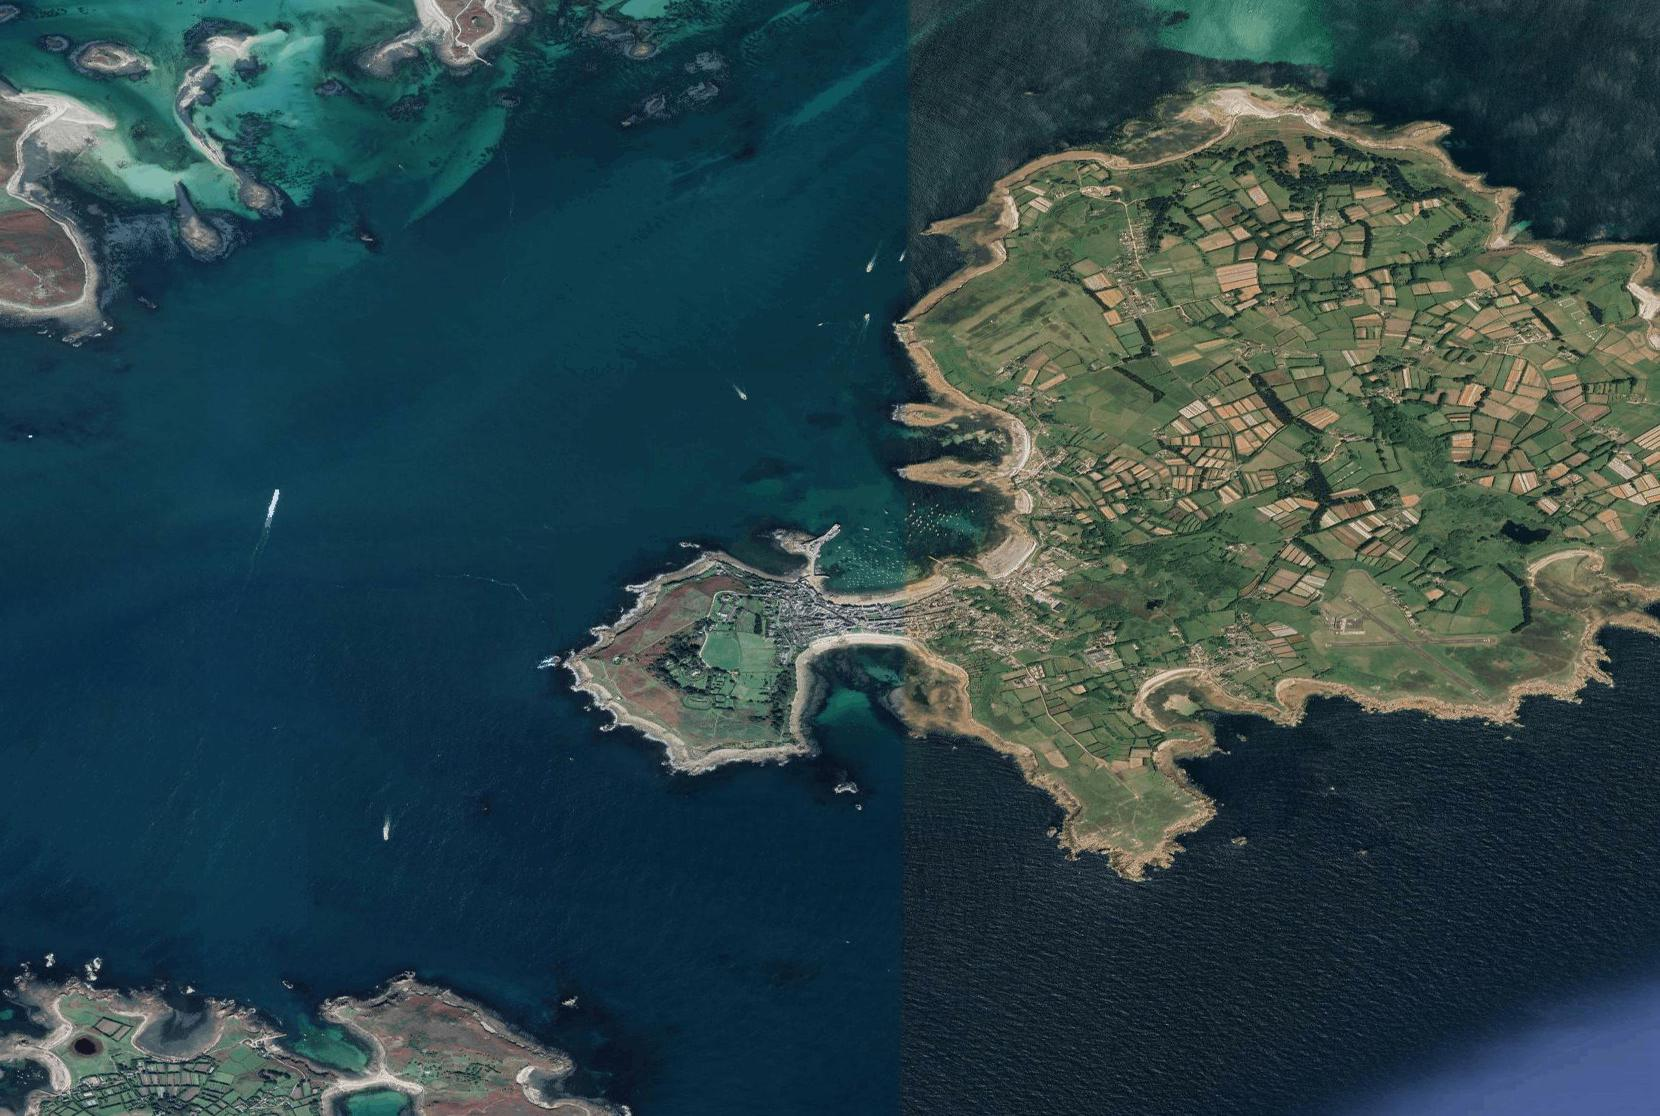harbor: (765, 506, 847, 590)
